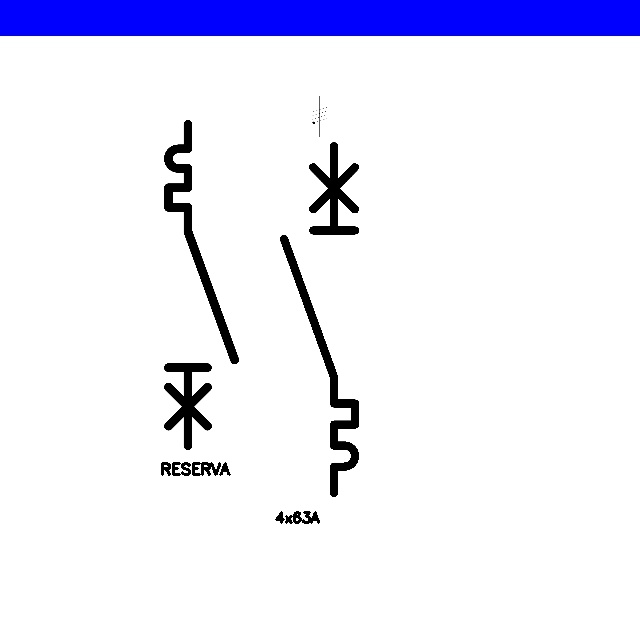interruptor_termomagnetico: (275, 137, 364, 502), (160, 116, 242, 454)
